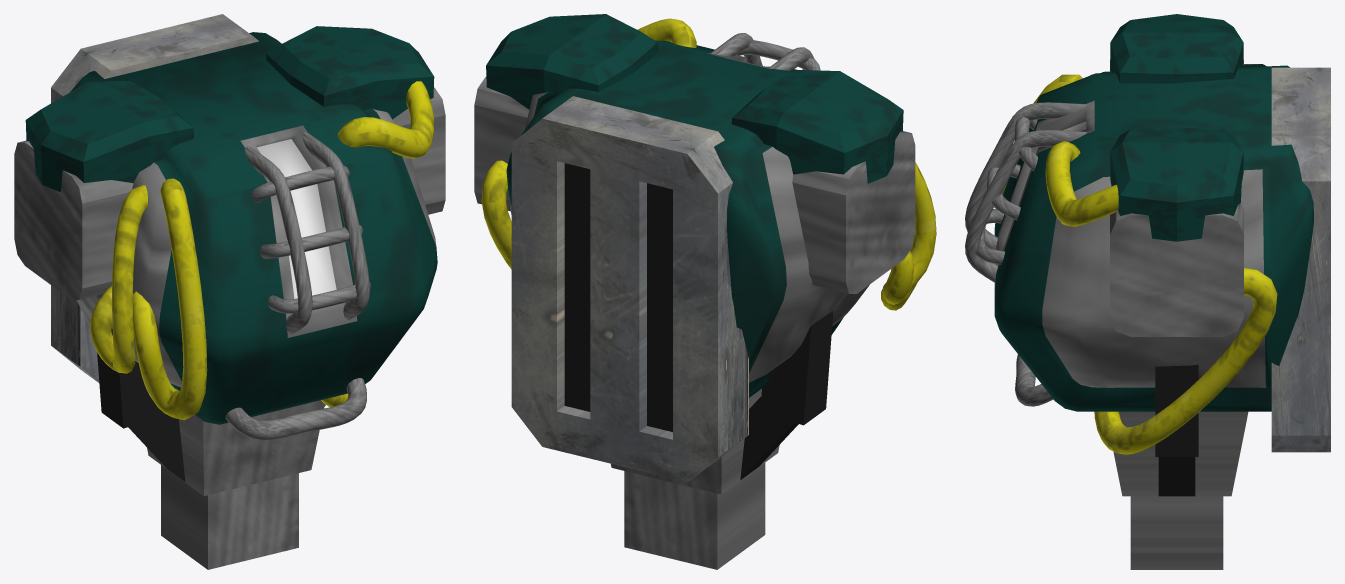
Rendered from Robot 7 Chasis .fbx.
The picture shows the model from 3 angles, left to right: view 1: azimuth 30°, elevation 25°; view 2: azimuth 150°, elevation 25°; view 3: azimuth 270°, elevation 25°; orthographic projection. The views are drawn at different scales.
Parts seen in each view (by area): view 1: Cube.019, Cube.003; view 2: Cube.019, Cube.003; view 3: Cube.019, Cube.003.
Part boxes in pixels (box(x1,y1,x2,y2)): Cube.019: box(14, 14, 445, 440); Cube.003: box(97, 329, 325, 569); Cube.019: box(474, 14, 936, 482); Cube.003: box(611, 311, 833, 569); Cube.019: box(965, 14, 1330, 454); Cube.003: box(1113, 364, 1248, 569).
Bounding box in the file's own units: 288 × 340 × 245.
